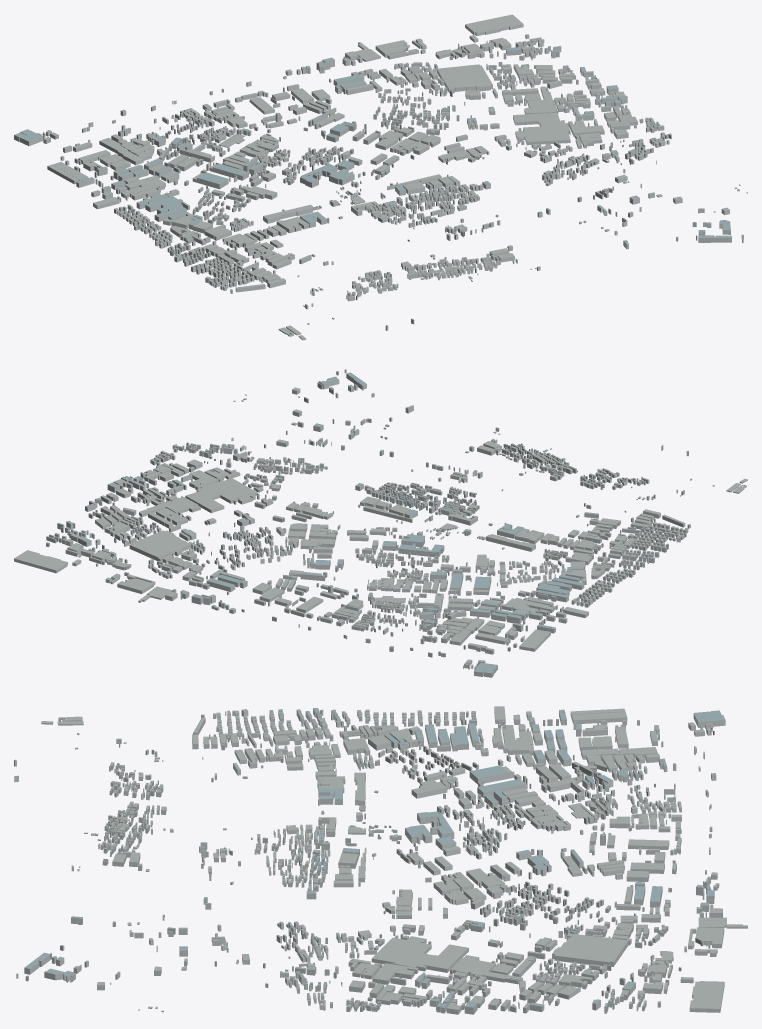
File: far.glb
The picture shows the model from 3 angles, top to bottom: view 1: azimuth 30°, elevation 25°; view 2: azimuth 150°, elevation 25°; view 3: azimuth 270°, elevation 25°; orthographic projection. The views are drawn at different scales.
Size of the model in its own units: 2142 by 32.29 by 2184.
